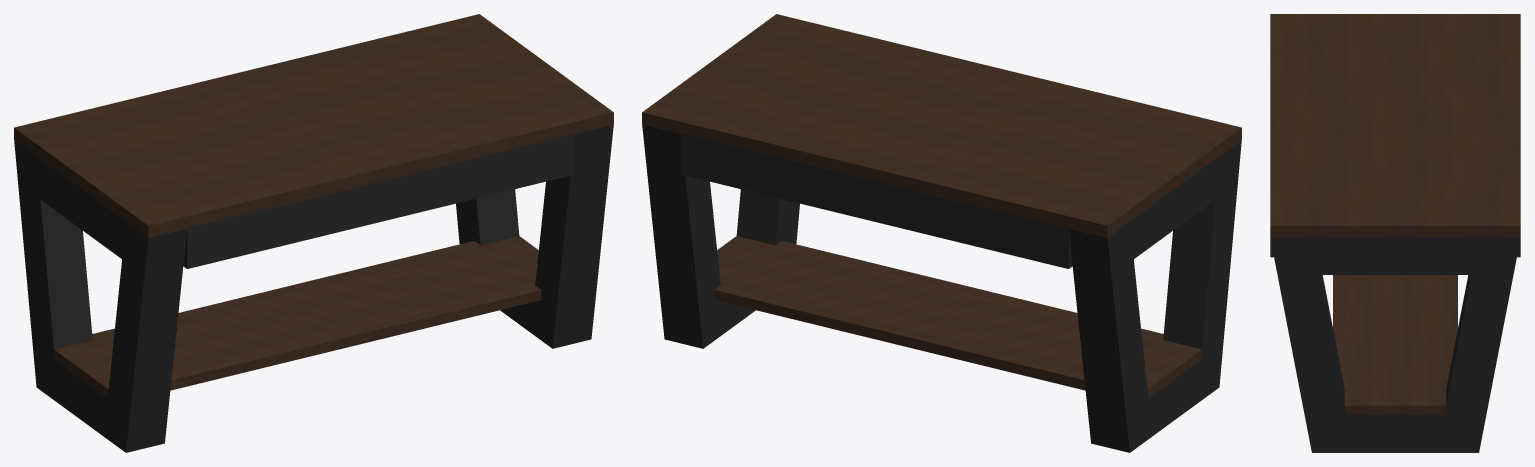
File: mesa-living-nord-estante-ebano-negro-10cm.glb
The picture shows the model from 3 angles, left to right: view 1: azimuth 30°, elevation 25°; view 2: azimuth 150°, elevation 25°; view 3: azimuth 270°, elevation 25°; orthographic projection. The views are drawn at different scales.
Visible parts, largest first — view 1: Tapa de madera maciza 120 x 60 x 3 cm, Patas inclinadas con cortes a inglete, Estante inferior de madera de 120 cm (proporción aproximada), Larguero longitudinal superior de hierro 10 x 10 mm, Travesaño superior del trapecio, perfil 10 cm, Travesaño inferior del trapecio, perfil 10 cm; view 2: Tapa de madera maciza 120 x 60 x 3 cm, Patas inclinadas con cortes a inglete, Estante inferior de madera de 120 cm (proporción aproximada), Larguero longitudinal superior de hierro 10 x 10 mm, Travesaño superior del trapecio, perfil 10 cm, Travesaño inferior del trapecio, perfil 10 cm (×2); view 3: Tapa de madera maciza 120 x 60 x 3 cm, Patas inclinadas con cortes a inglete, Estante inferior de madera de 120 cm (proporción aproximada), Travesaño superior del trapecio, perfil 10 cm, Travesaño inferior del trapecio, perfil 10 cm.
Part boxes in pixels (bbox=[...]): Tapa de madera maciza 120 x 60 x 3 cm: bbox=[14, 14, 613, 237]; Patas inclinadas con cortes a inglete: bbox=[14, 124, 613, 452]; Estante inferior de madera de 120 cm (proporción aproximada): bbox=[54, 236, 541, 398]; Larguero longitudinal superior de hierro 10 x 10 mm: bbox=[183, 134, 574, 268]; Travesaño superior del trapecio, perfil 10 cm: bbox=[36, 156, 137, 269]; Travesaño inferior del trapecio, perfil 10 cm: bbox=[55, 360, 114, 438]; Tapa de madera maciza 120 x 60 x 3 cm: bbox=[642, 14, 1241, 237]; Patas inclinadas con cortes a inglete: bbox=[642, 124, 1241, 452]; Estante inferior de madera de 120 cm (proporción aproximada): bbox=[714, 236, 1201, 398]; Larguero longitudinal superior de hierro 10 x 10 mm: bbox=[681, 134, 1072, 268]; Travesaño superior del trapecio, perfil 10 cm: bbox=[1118, 149, 1230, 268]; Travesaño inferior del trapecio, perfil 10 cm (×2): bbox=[715, 300, 1200, 436]; Tapa de madera maciza 120 x 60 x 3 cm: bbox=[1270, 14, 1520, 237]; Patas inclinadas con cortes a inglete: bbox=[1270, 237, 1520, 452]; Estante inferior de madera de 120 cm (proporción aproximada): bbox=[1333, 275, 1457, 414]; Travesaño superior del trapecio, perfil 10 cm: bbox=[1291, 237, 1499, 274]; Travesaño inferior del trapecio, perfil 10 cm: bbox=[1333, 415, 1457, 452].
Size of the model in its own units: 1.2 by 0.6 by 0.6.
Materials: 2 (1 with a texture image).
